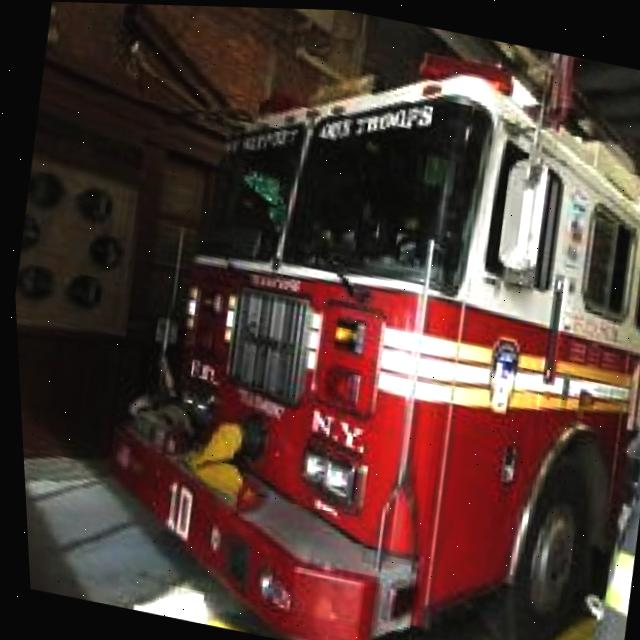emergency: (56, 1, 640, 640)
